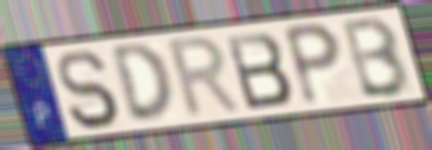B: (340, 13, 413, 100), (222, 29, 295, 112)
D: (107, 40, 176, 125)
P: (279, 20, 345, 110)
R: (165, 32, 247, 123)
S: (53, 47, 122, 132)
